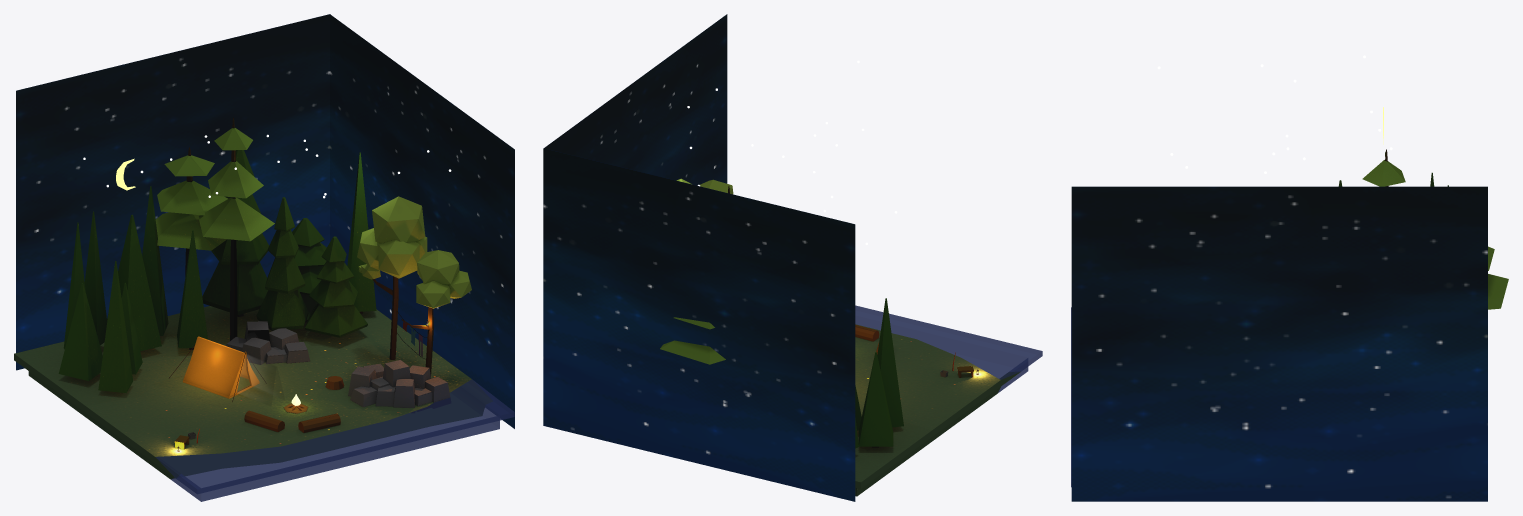
File: low-poly_camp.glb
The picture shows the model from 3 angles, left to right: view 1: azimuth 30°, elevation 25°; view 2: azimuth 150°, elevation 25°; view 3: azimuth 270°, elevation 25°; orthographic projection. The views are drawn at different scales.
Parts seen in each view (by area): view 1: Cube.008, Cube.007, Cube, Cube.005, Cube.014, Circle.001, Circle.004, Icosphere.000, Cube.010, Cube.009, Circle.016, Cylinder.001 (+1 smaller); view 2: Cube.008, Cube.007, Cube, Cube.014, Cube.005, Circle.004; view 3: Cube.007, Circle.004.
Boxes of the visible parts, <box> form: Cube.008: <box>16,14,329,370</box>; Cube.007: <box>330,14,514,428</box>; Cube: <box>14,306,492,479</box>; Cube.005: <box>58,152,376,393</box>; Cube.014: <box>155,379,514,501</box>; Circle.001: <box>202,150,367,337</box>; Circle.004: <box>155,128,274,250</box>; Icosphere.000: <box>357,196,471,308</box>; Cube.010: <box>226,321,450,412</box>; Cube.009: <box>182,336,259,398</box>; Circle.016: <box>185,117,433,376</box>; Cylinder.001: <box>244,376,343,432</box>; Cube.008: <box>543,148,855,501</box>; Cube.007: <box>544,14,727,185</box>; Cube: <box>855,324,1020,496</box>; Cube.014: <box>855,305,1042,392</box>; Cube.005: <box>855,298,903,448</box>; Circle.004: <box>660,188,730,364</box>; Cube.007: <box>1071,186,1487,501</box>; Circle.004: <box>1362,152,1508,309</box>.
Size of what is drawn, in the model's own units: 10.76 by 9.83 by 11.39.
27 materials, 21 textured.
